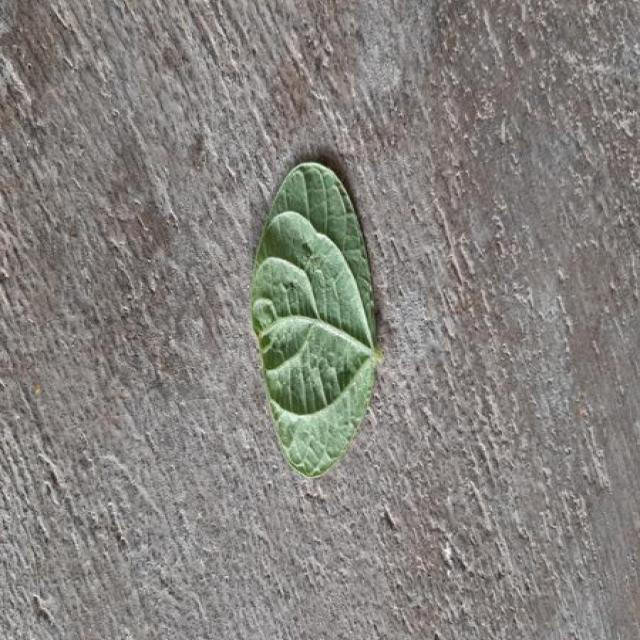beans: (252, 162, 382, 478)
